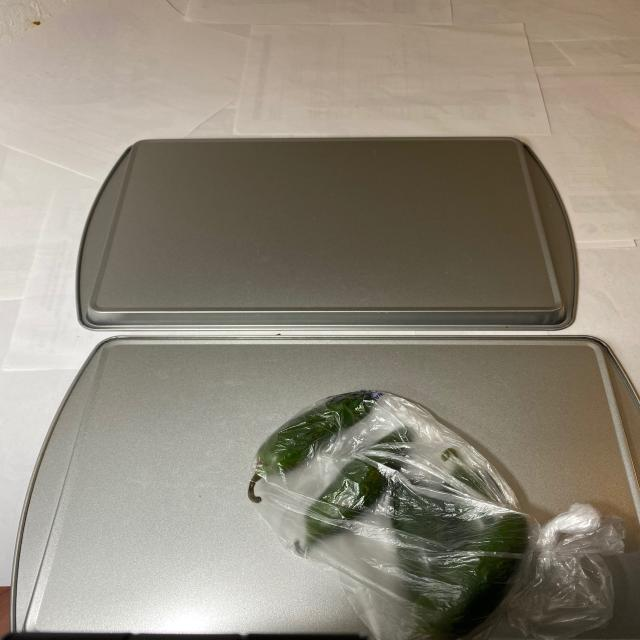chilli: (250, 390, 548, 636)
